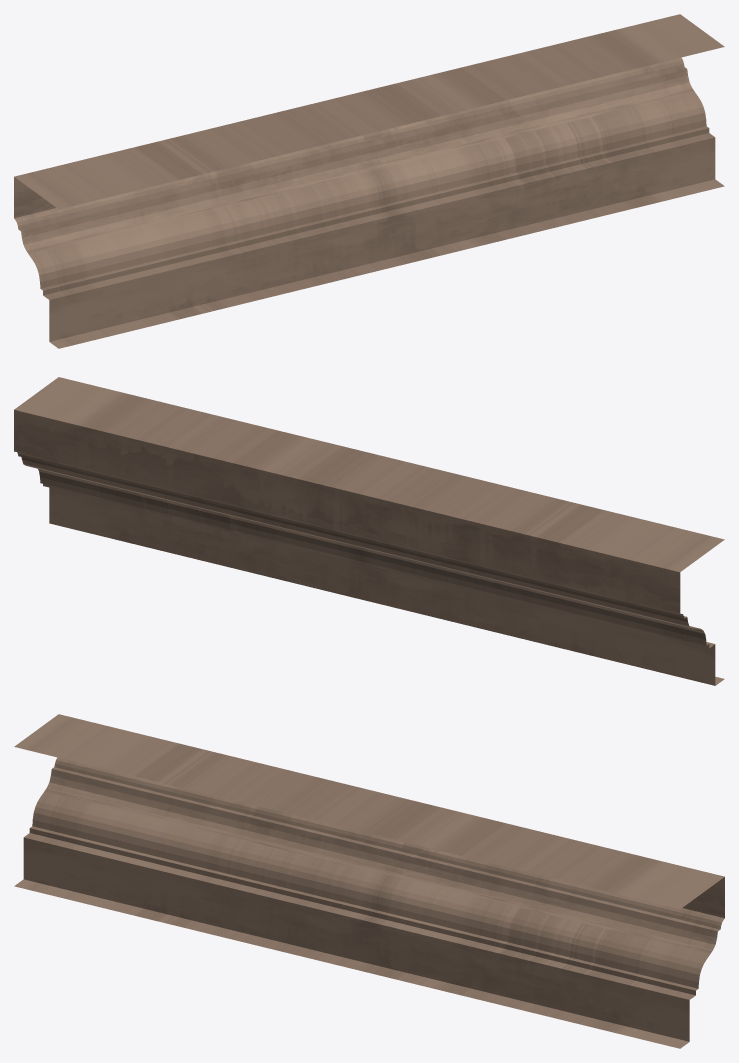
The model's file is 2x2 Crown_A.fbx.
3 views of the same model, one above another, from view 1: azimuth 30°, elevation 25°; view 2: azimuth 150°, elevation 25°; view 3: azimuth 330°, elevation 25° (orthographic).
Parts seen in each view (by area): view 1: 2x2 Crown_A; view 2: 2x2 Crown_A; view 3: 2x2 Crown_A.
Part boxes in pixels (bbox=[...]): 2x2 Crown_A: bbox=[14, 14, 724, 348]; 2x2 Crown_A: bbox=[14, 377, 724, 685]; 2x2 Crown_A: bbox=[14, 714, 724, 1048].
Bounding box in the file's own units: 2 × 0.2328 × 0.4.
